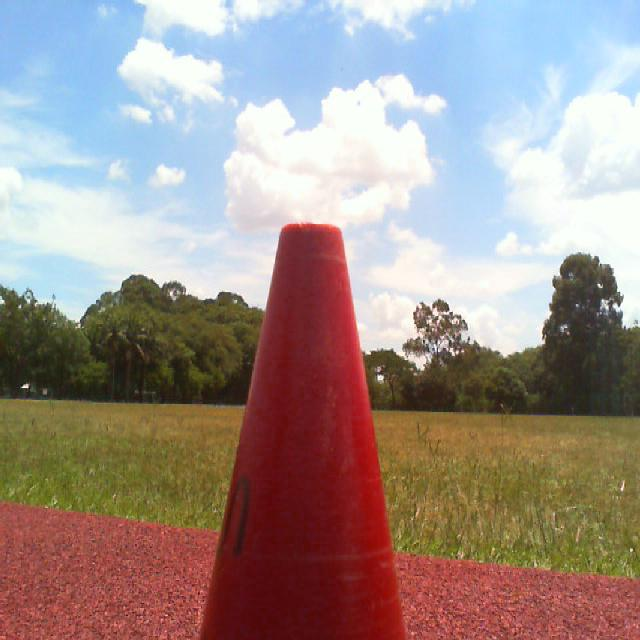cone: (193, 224, 404, 640)
